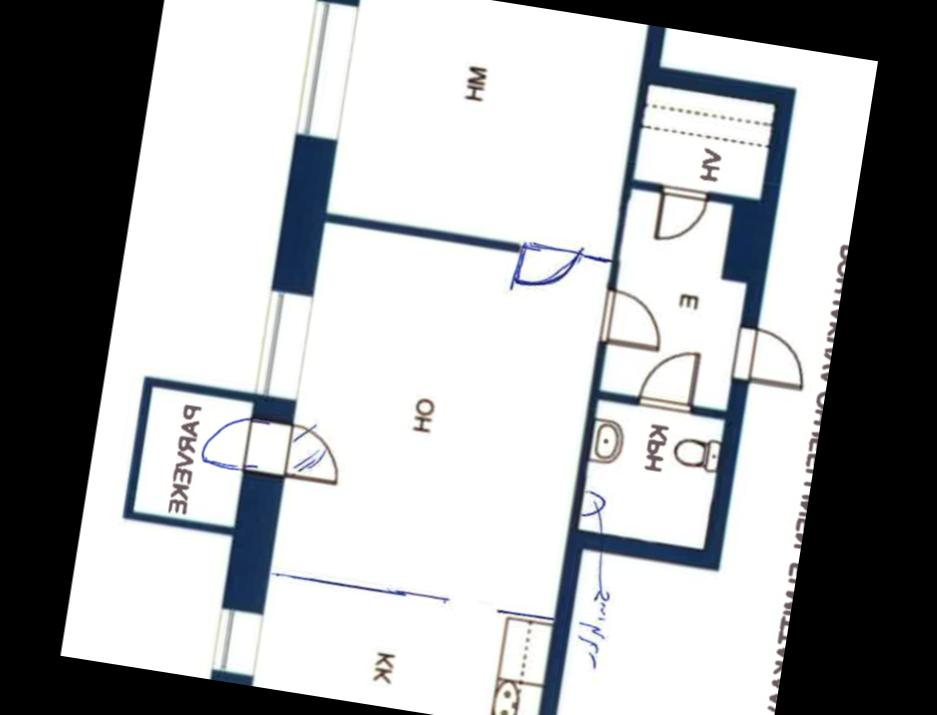door: (724, 321, 814, 396), (275, 417, 350, 494), (592, 284, 672, 355), (506, 229, 583, 298), (195, 404, 270, 474), (634, 342, 702, 416), (648, 178, 714, 248)
window: (290, 0, 365, 147), (249, 278, 318, 404), (206, 598, 269, 685)
